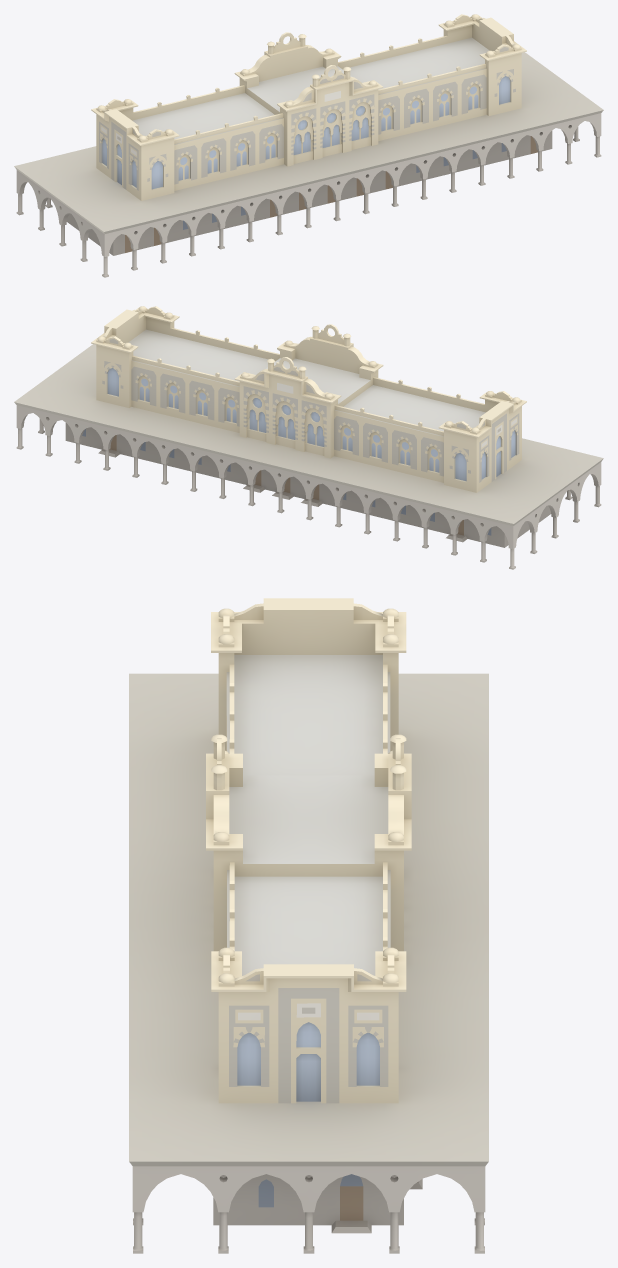
3 views of the same model, one above another, from view 1: azimuth 30°, elevation 25°; view 2: azimuth 150°, elevation 25°; view 3: azimuth 270°, elevation 25° (orthographic). The views are drawn at different scales.
Parts seen in each view (by area): view 1: hijazrailwaysmuseum; view 2: hijazrailwaysmuseum; view 3: hijazrailwaysmuseum.
Part boxes in pixels (left/top/right/bottom): hijazrailwaysmuseum: left=14, top=14, right=603, bottom=277; hijazrailwaysmuseum: left=14, top=306, right=603, bottom=569; hijazrailwaysmuseum: left=129, top=598, right=488, bottom=1253.
Bounding box in the file's own units: 68.22 × 17.73 × 21.27.
1 material, 1 textured.
